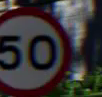Speed limit: (1, 8, 73, 92)
